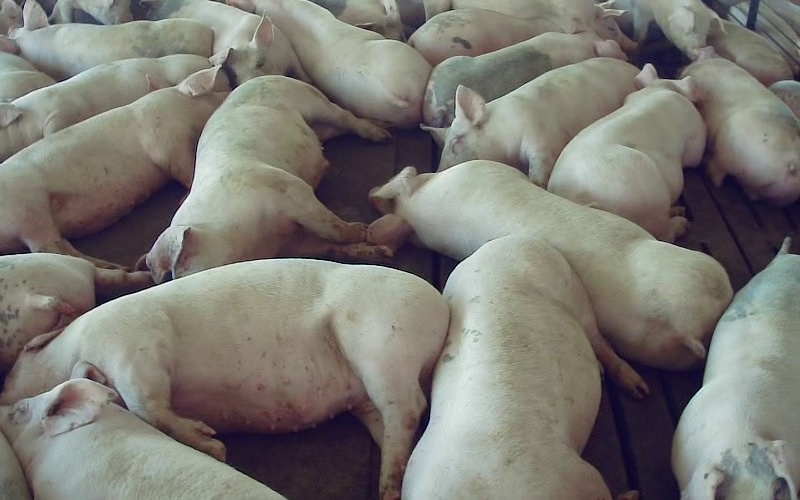pig: (0, 259, 448, 499), (369, 160, 731, 369), (403, 235, 646, 499), (138, 76, 391, 282), (0, 66, 229, 267), (672, 239, 799, 499), (548, 64, 705, 241), (426, 57, 638, 186), (228, 0, 431, 127), (0, 54, 210, 161), (682, 46, 799, 205), (0, 253, 151, 375), (141, 0, 308, 85), (424, 0, 636, 49), (408, 9, 562, 65), (614, 0, 723, 59)
